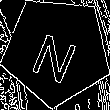N_NE: (29, 20, 84, 82)
